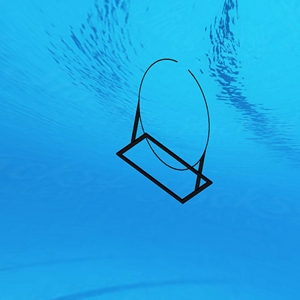circle: (115, 55, 219, 205)
